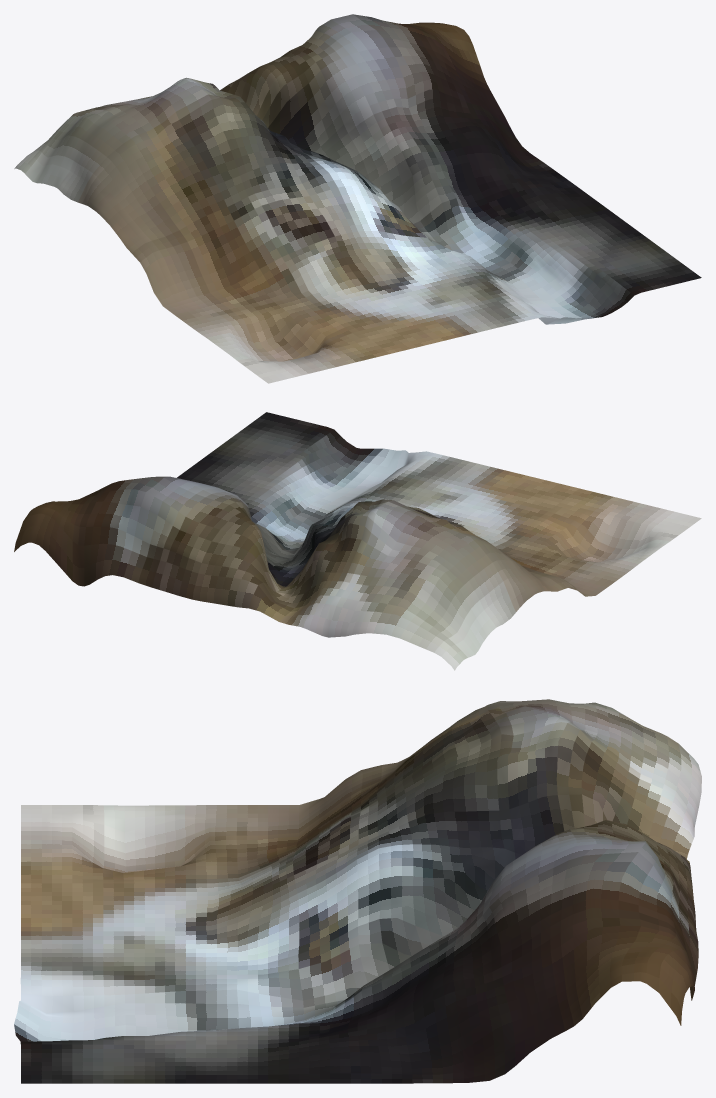
The model's file is terrain.fbx.
3 renders of one model, top to bottom at view 1: azimuth 30°, elevation 25°; view 2: azimuth 150°, elevation 25°; view 3: azimuth 270°, elevation 25°, orthographic. The views are drawn at different scales.
Visible parts, largest first — view 1: pPlane1; view 2: pPlane1; view 3: pPlane1.
Part boxes in pixels (x1=…): pPlane1: x1=14, y1=14, x2=701, y2=383; pPlane1: x1=14, y1=412, x2=701, y2=670; pPlane1: x1=14, y1=699, x2=701, y2=1083.
Bounding box in the file's own units: 24.29 × 8.01 × 25.
